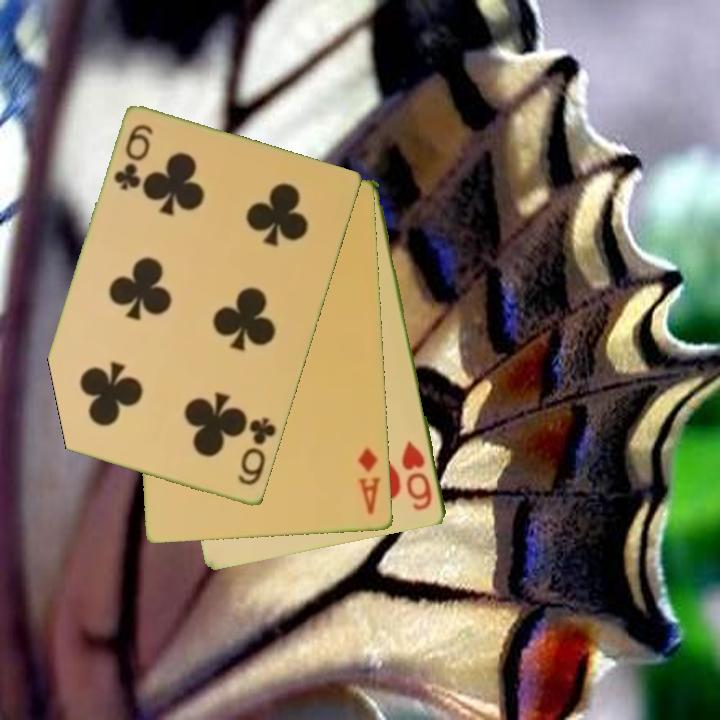6c: (110, 121, 157, 194), (234, 414, 279, 489)
6h: (398, 437, 436, 514)
Ad: (355, 445, 384, 518)
